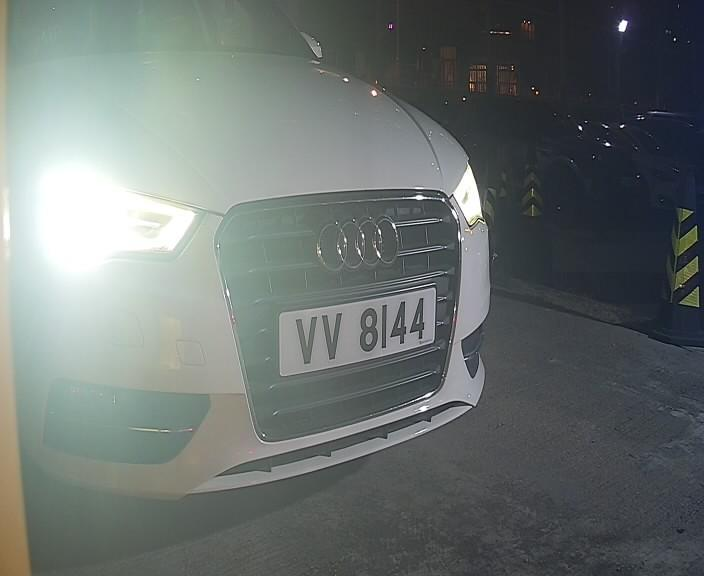privatecar: (13, 11, 500, 520)
